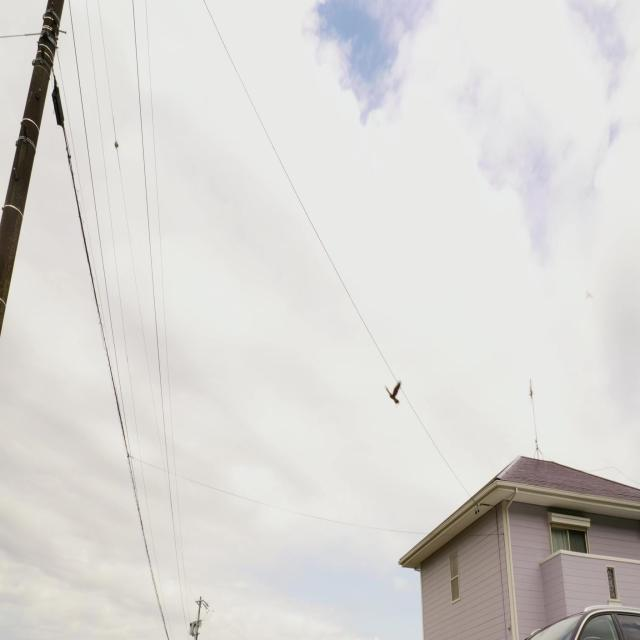Birds: (381, 376, 404, 421)
